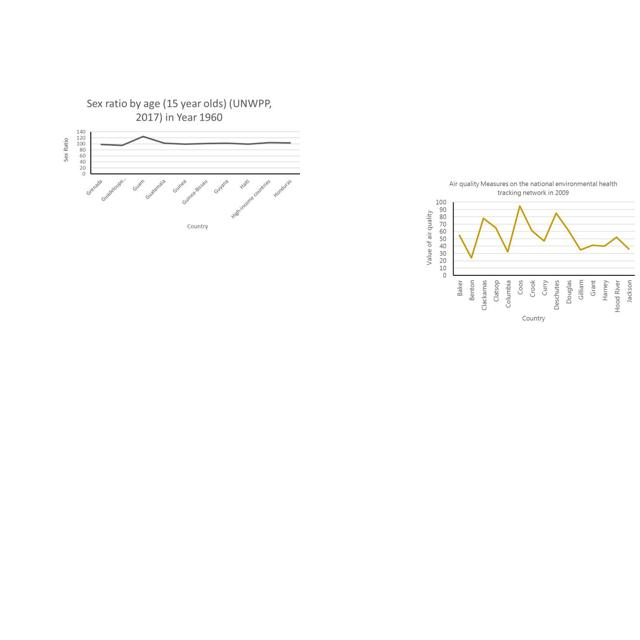Graph: (62, 93, 300, 233), (421, 175, 638, 325)
